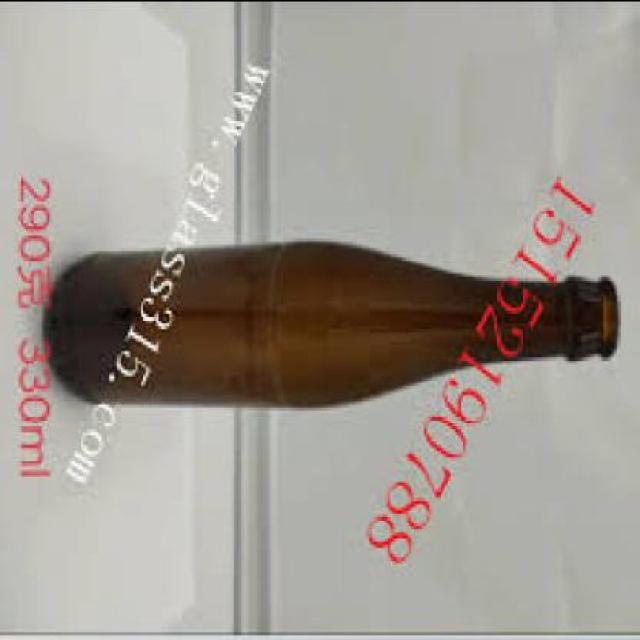GLASS: (47, 240, 622, 403)
